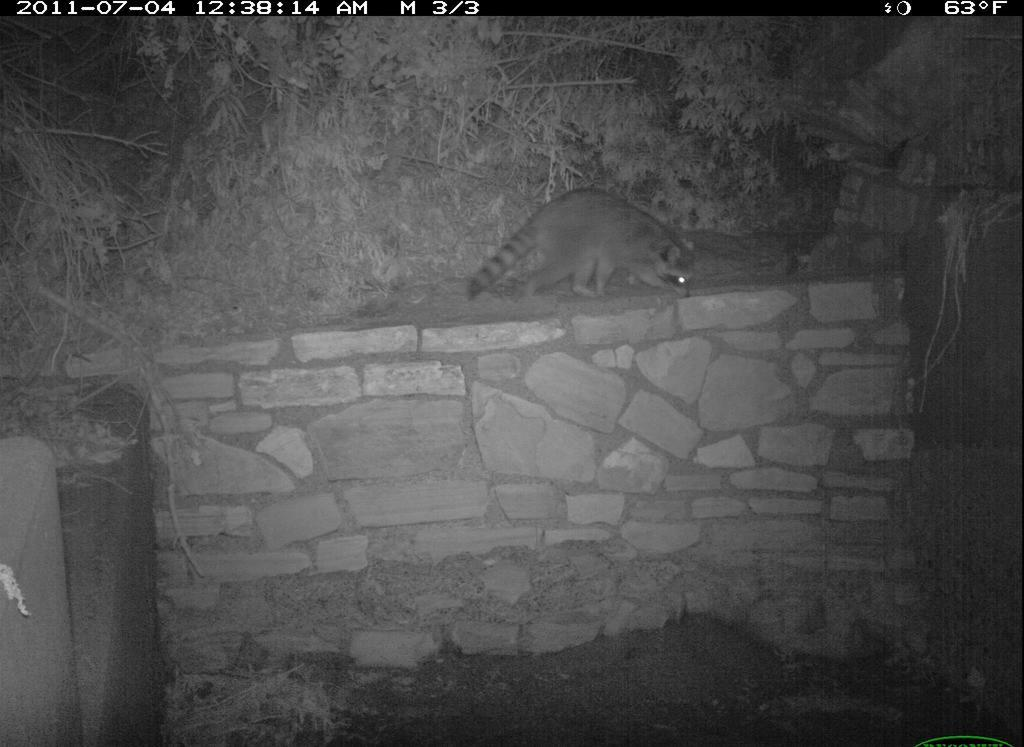raccoon: (463, 189, 706, 314)
